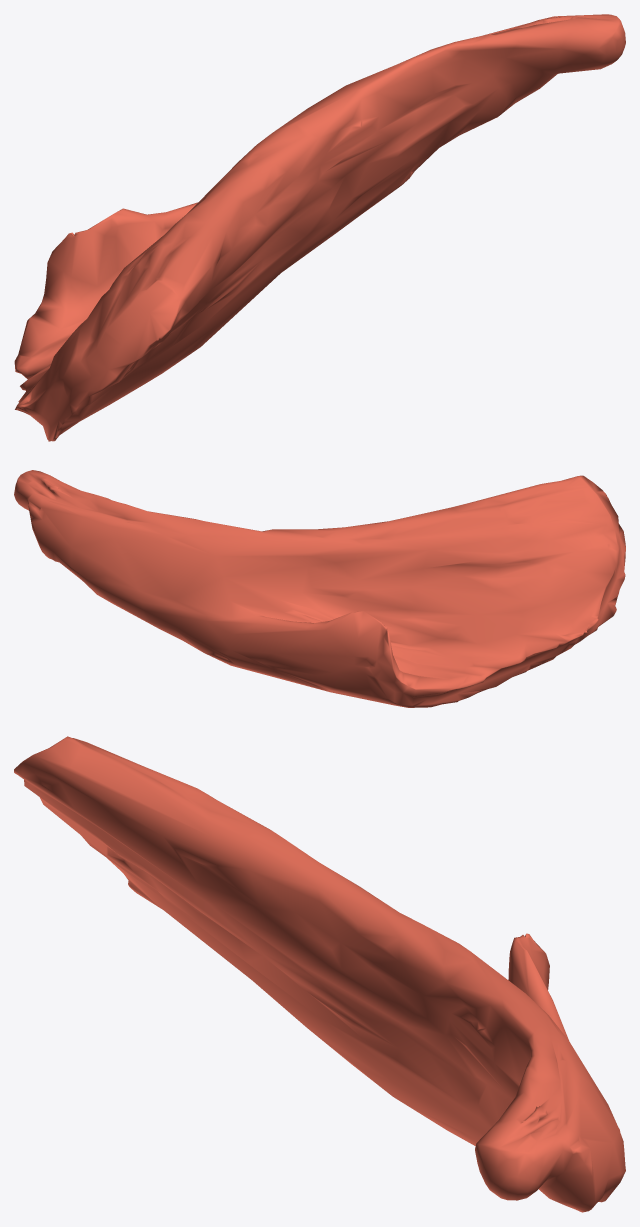
File: obturator-externus.glb
3 renders of one model, top to bottom at view 1: azimuth 30°, elevation 25°; view 2: azimuth 150°, elevation 25°; view 3: azimuth 270°, elevation 25°, orthographic. The views are drawn at different scales.
Visible parts, largest first — view 1: Obturator externus.l; view 2: Obturator externus.l; view 3: Obturator externus.l.
Part boxes in pixels (bbox=[...]): Obturator externus.l: bbox=[14, 14, 625, 441]; Obturator externus.l: bbox=[14, 470, 625, 707]; Obturator externus.l: bbox=[14, 736, 625, 1212].
Bounding box in the file's own units: 0.0995 × 0.0309 × 0.0581.
